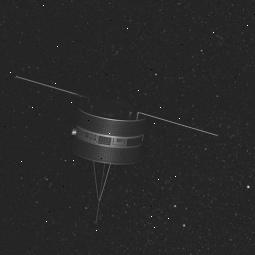double_start: (61, 85, 146, 220)
